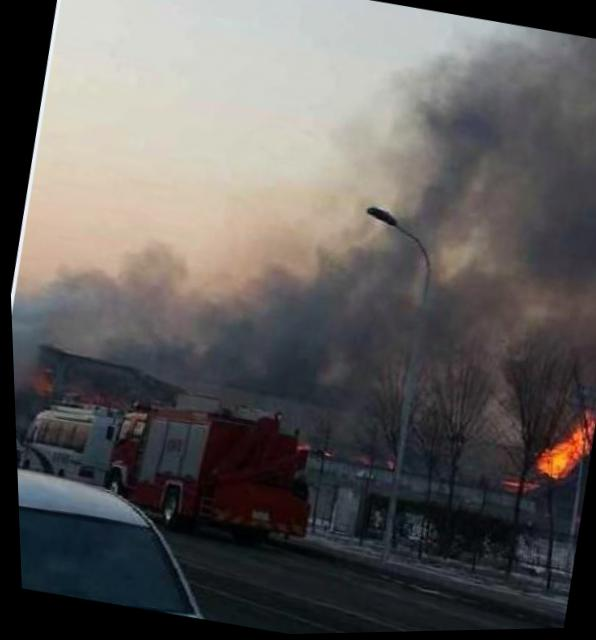fire: (529, 439, 572, 483), (561, 415, 591, 457)
